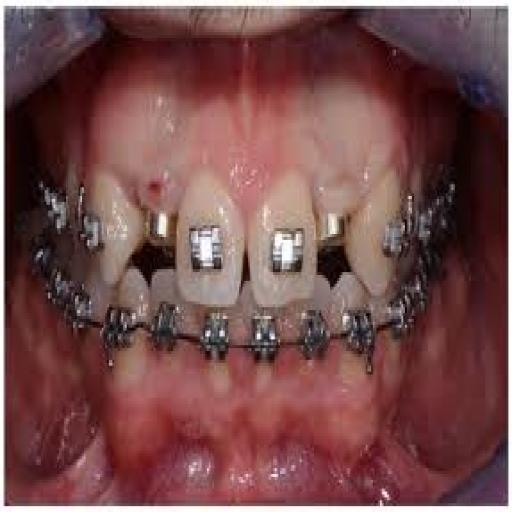correct_brace: (264, 212, 307, 292), (187, 214, 228, 280), (384, 200, 412, 273), (78, 201, 106, 255)
incorrect_brace: (336, 151, 408, 305), (78, 166, 147, 286)
